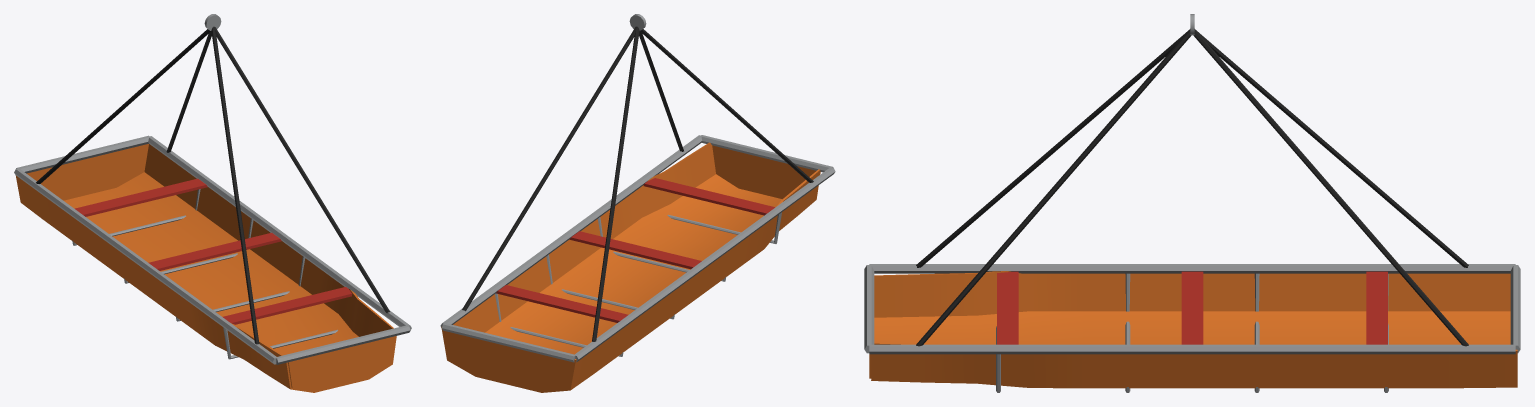
File: stretcher.glb
3 renders of one model, left to right at view 1: azimuth 30°, elevation 25°; view 2: azimuth 150°, elevation 25°; view 3: azimuth 270°, elevation 25°, orthographic. The views are drawn at different scales.
Parts seen in each view (by area): view 1: stretcher; view 2: stretcher; view 3: stretcher.
Part boxes in pixels (x1=…): stretcher: x1=14, y1=14, x2=411, y2=392; stretcher: x1=440, y1=14, x2=835, y2=392; stretcher: x1=864, y1=14, x2=1520, y2=392.
Bounding box in the file's own units: 0.652 × 1.24 × 2.13.
